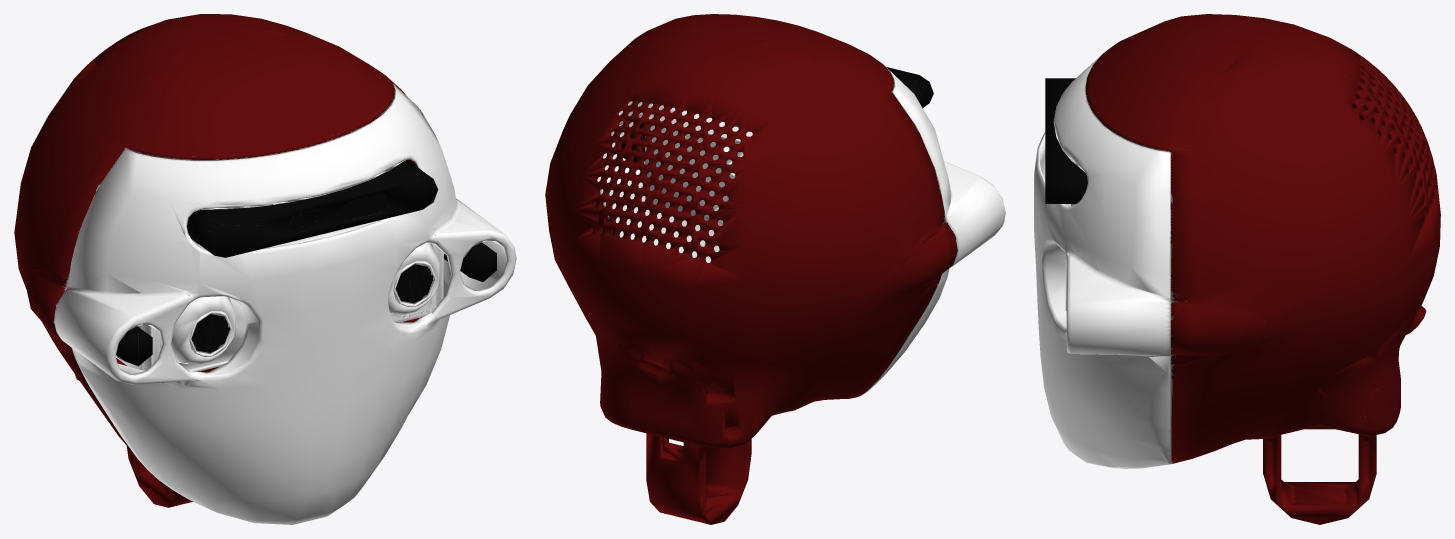
The model's file is upper_neck.obj.
The picture shows the model from 3 angles, left to right: view 1: azimuth 30°, elevation 25°; view 2: azimuth 150°, elevation 25°; view 3: azimuth 270°, elevation 25°; orthographic projection. The views are drawn at different scales.
Size of the model in its own units: 0.3219 by 0.365 by 0.2861.
1 material, 1 textured.
